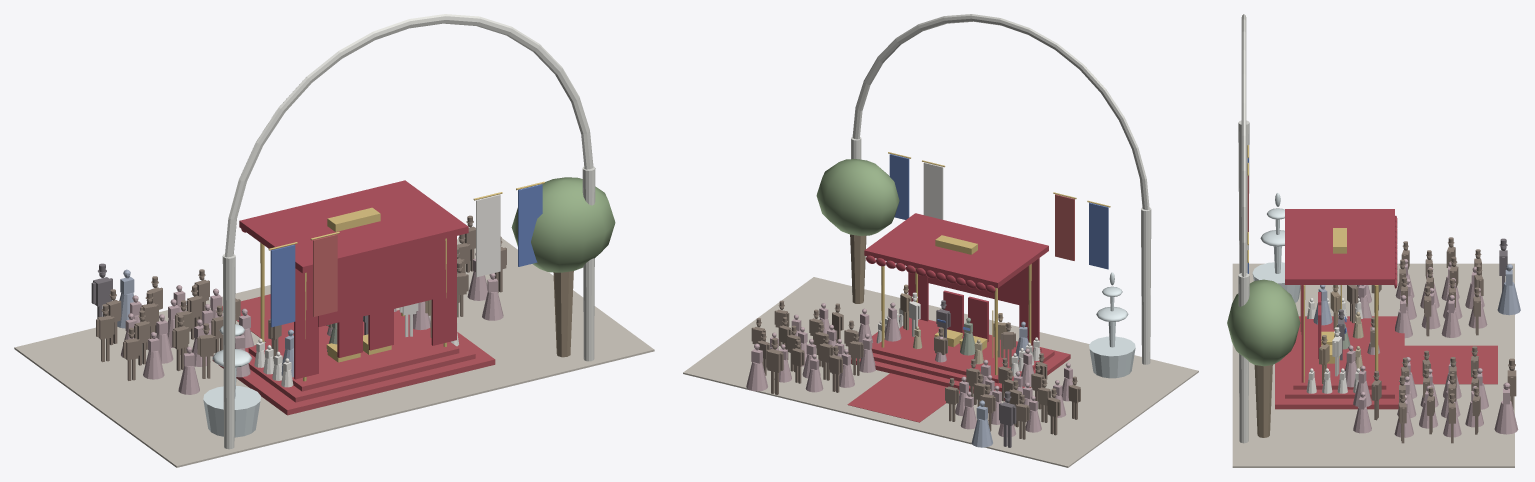
Rendered from scan-fig58-opening-of-exhibition-muse.glb.
3 renders of one model, left to right at view 1: azimuth 30°, elevation 25°; view 2: azimuth 150°, elevation 25°; view 3: azimuth 270°, elevation 25°, orthographic. The views are drawn at different scales.
Visible parts, largest first — view 1: Floor, CanopyTop, ElmCanopy, BackDrapeC, TranseptArch, DaisTop, DaisStep1, BackDrapeR, DaisStep2, ArchCol, BackDrapeL, Banner (+16 smaller); view 2: Floor, CanopyTop, ElmCanopy, TranseptArch, DaisTop, Carpet, FountainBase, ArchCol, BackDrapeL, Banner, Banner.001, DaisStep1 (+13 smaller); view 3: Floor, CanopyTop, ElmCanopy, DaisTop, Carpet, DaisStep1, DaisStep2, TranseptArch, ArchCol.001, ElmTrunk, ArchCol, ProtoWoman.029 (+21 smaller).
Part boxes in pixels (x1,y1,x2,y2): Floor: (14, 238, 654, 467); CanopyTop: (239, 180, 468, 273); ElmCanopy: (511, 177, 615, 272); BackDrapeC: (318, 241, 434, 326); TranseptArch: (224, 14, 593, 257); DaisTop: (248, 311, 459, 391); DaisStep1: (212, 310, 495, 415); BackDrapeR: (431, 236, 456, 345); DaisStep2: (245, 342, 475, 402); ArchCol: (222, 254, 235, 449); BackDrapeL: (294, 268, 318, 379); Banner: (270, 244, 295, 327); Floor: (683, 277, 1198, 467); CanopyTop: (864, 213, 1048, 288); ElmCanopy: (816, 159, 899, 235); TranseptArch: (852, 14, 1149, 209); DaisTop: (871, 319, 1041, 383); Carpet: (847, 373, 959, 422); FountainBase: (1089, 336, 1135, 378); ArchCol: (1141, 207, 1151, 364); BackDrapeL: (1019, 258, 1039, 346); Banner: (1089, 202, 1108, 269); Banner.001: (1055, 194, 1074, 260); DaisStep1: (851, 316, 1070, 401); Floor: (1232, 263, 1514, 467); CanopyTop: (1285, 209, 1394, 284); ElmCanopy: (1227, 279, 1300, 366); DaisTop: (1293, 319, 1386, 389); Carpet: (1404, 345, 1497, 384); DaisStep1: (1275, 316, 1404, 409); DaisStep2: (1285, 318, 1394, 398); TranseptArch: (1241, 14, 1246, 276); ArchCol.001: (1238, 273, 1249, 443); ElmTrunk: (1254, 365, 1272, 437); ArchCol: (1238, 120, 1249, 273); ProtoWoman.029: (1494, 382, 1518, 434).
Size of the model in its own units: 17 by 13.12 by 10.41.
